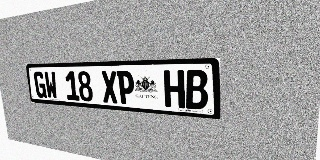1: (64, 71, 80, 101)
8: (77, 71, 93, 102)
B: (185, 70, 208, 110)
G: (33, 71, 47, 98)
H: (163, 70, 185, 108)
P: (116, 71, 135, 105)
W: (44, 71, 58, 99)
X: (101, 71, 118, 104)
